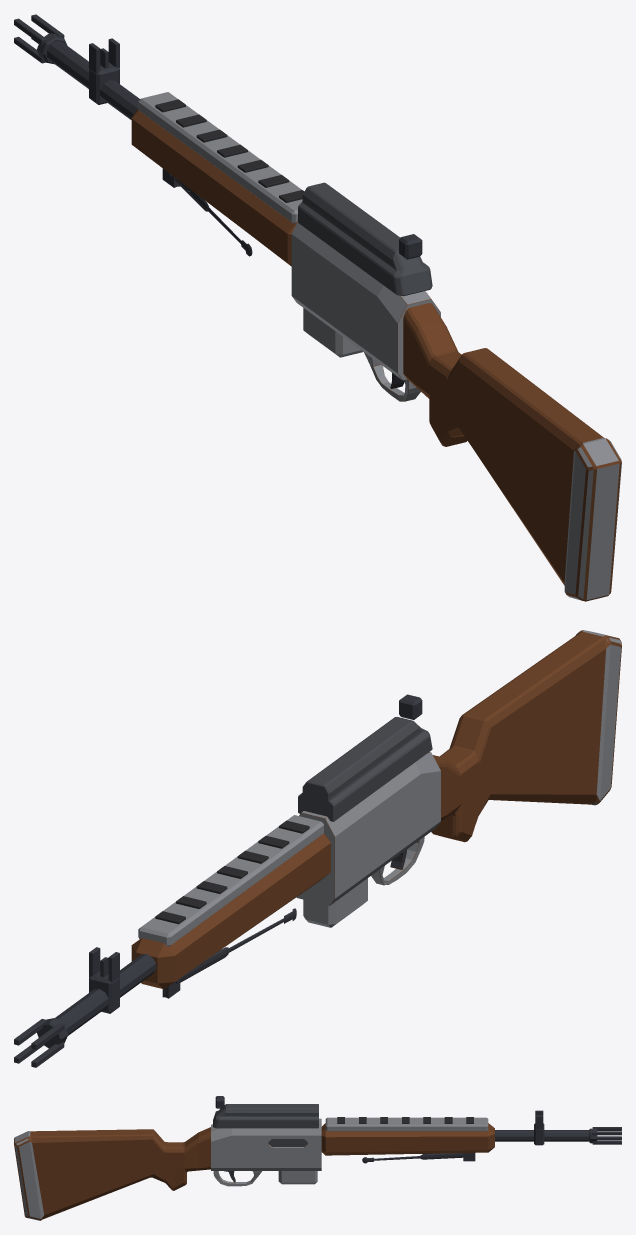
Rendered from battle_rifle.glb.
3 renders of one model, top to bottom at view 1: azimuth 30°, elevation 25°; view 2: azimuth 150°, elevation 25°; view 3: azimuth 270°, elevation 25°, orthographic. The views are drawn at different scales.
Visible parts, largest first — view 1: battle_rifle; view 2: battle_rifle; view 3: battle_rifle.
Boxes of the visible parts, x1,y1,x2,y2 form: battle_rifle: (14,14,621,601); battle_rifle: (14,630,621,1067); battle_rifle: (14,1096,621,1220).
Size of the model in its own units: 0.0409 by 0.1875 by 0.86.
